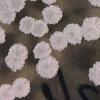white: (35, 57, 60, 80), (81, 16, 100, 43), (63, 23, 82, 47), (41, 5, 62, 25), (7, 42, 30, 60), (13, 78, 32, 99), (4, 55, 25, 72), (32, 41, 51, 59), (50, 31, 67, 51), (32, 19, 49, 38), (88, 61, 100, 87), (19, 16, 35, 35), (0, 8, 16, 25), (0, 83, 15, 100), (10, 0, 27, 13), (0, 0, 13, 11), (0, 25, 6, 48), (87, 0, 100, 8), (40, 0, 57, 6), (29, 0, 37, 2)
